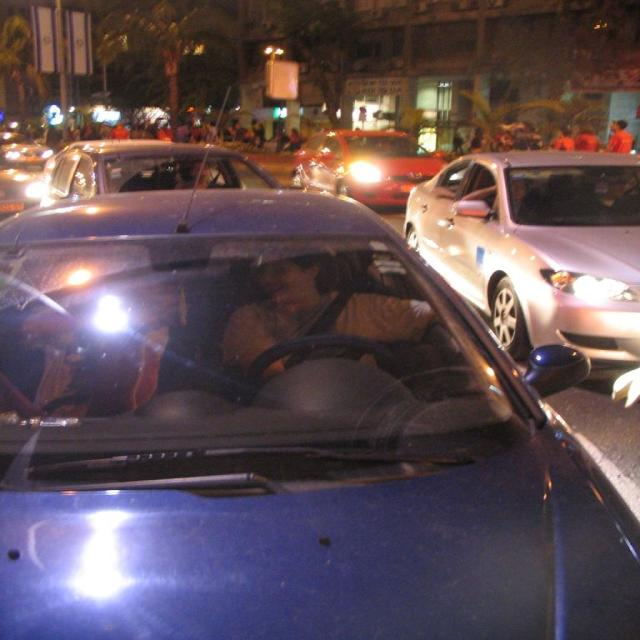car: (0, 180, 638, 638), (398, 154, 624, 368), (33, 140, 271, 193), (279, 129, 440, 204)
